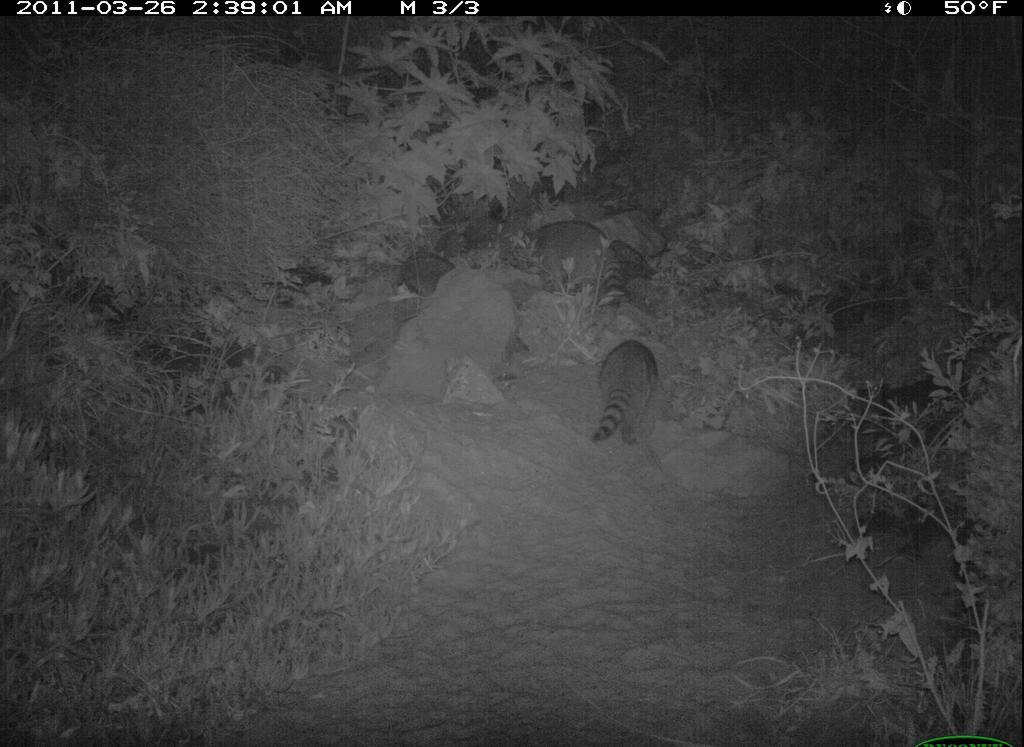raccoon: (588, 338, 669, 469)
